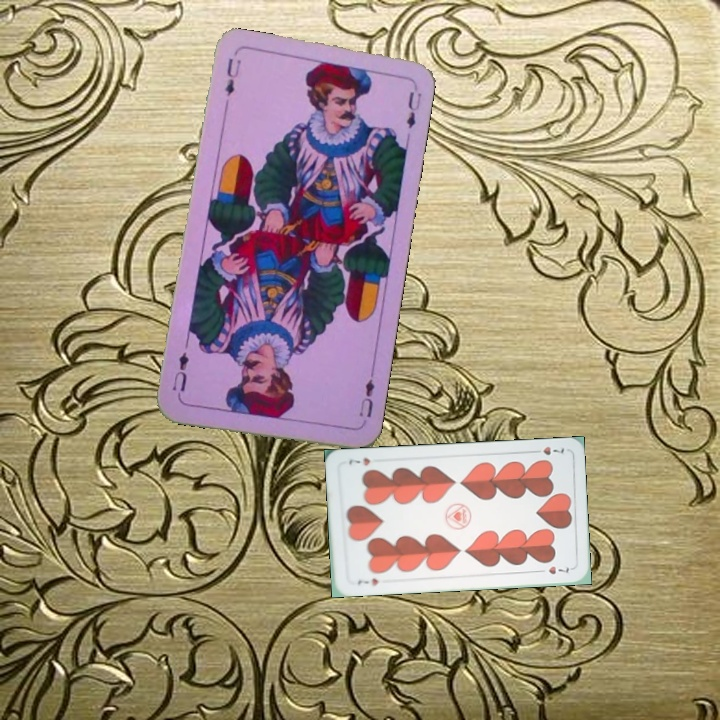EU: (355, 367, 377, 420), (221, 54, 243, 99)
H7: (528, 442, 566, 457), (354, 574, 380, 588)
